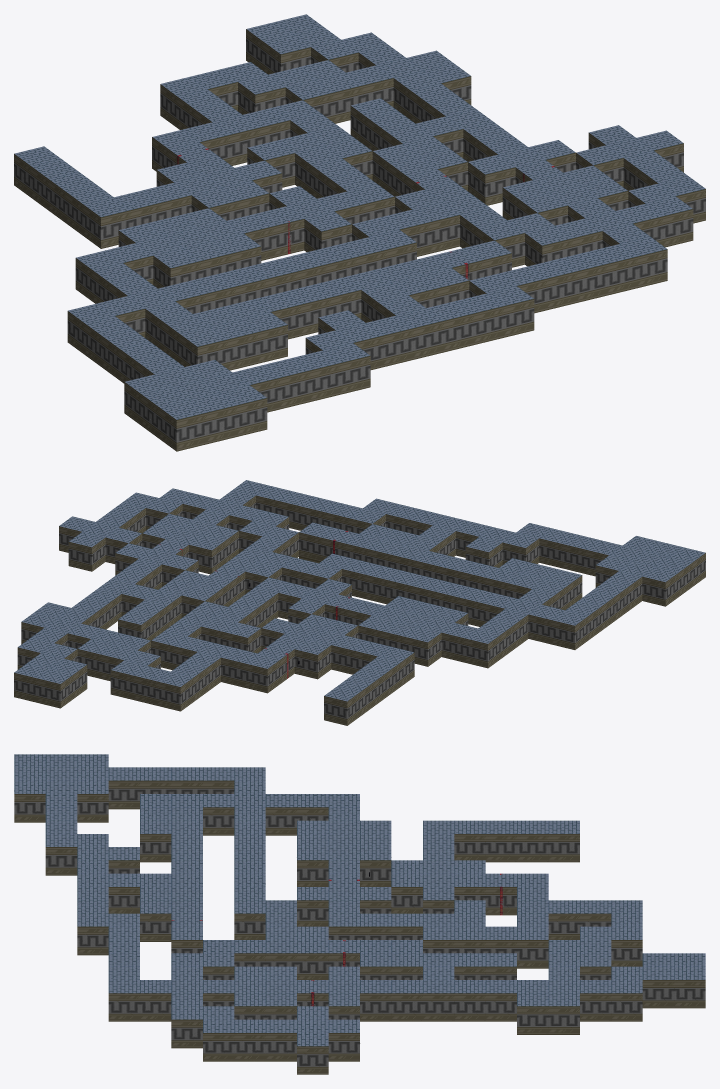
Rendered from Dungeon.diff3new.obj.
3 renders of one model, top to bottom at view 1: azimuth 30°, elevation 25°; view 2: azimuth 150°, elevation 25°; view 3: azimuth 270°, elevation 25°, orthographic. The views are drawn at different scales.
Visible parts, largest first — view 1: Ceiling_Plane.058, WallS_Plane.416, WallW_Plane.684; view 2: Ceiling_Plane.058, WallN_Plane.500, WallW_Plane.684; view 3: Ceiling_Plane.058, WallE_Plane.602.
Part boxes in pixels (x1,y1,x2,y2): Ceiling_Plane.058: (14,14,705,419); WallS_Plane.416: (101,47,705,451); WallW_Plane.684: (14,29,657,451); Ceiling_Plane.058: (14,480,705,701); WallN_Plane.500: (14,495,665,725); WallW_Plane.684: (54,496,705,725); Ceiling_Plane.058: (14,754,705,1046); WallE_Plane.602: (14,780,705,1074).
Bounding box in the file's own units: 22.01 × 2 × 22.03.
10 materials, 7 textured.
